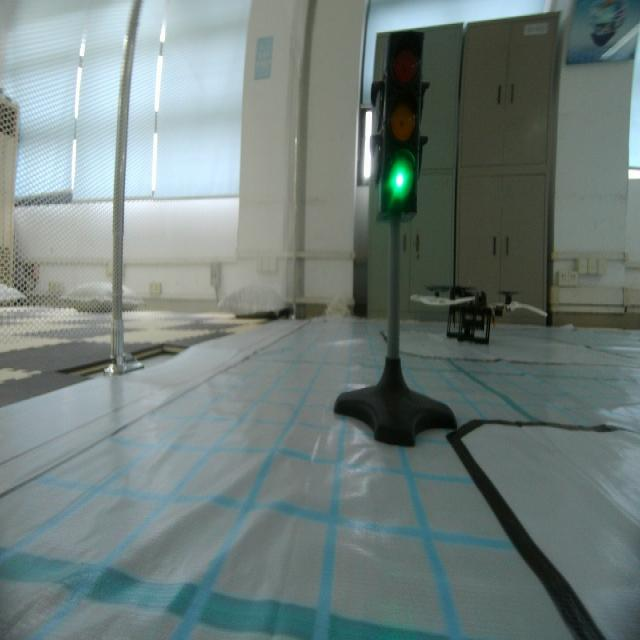green: (377, 31, 425, 224)
